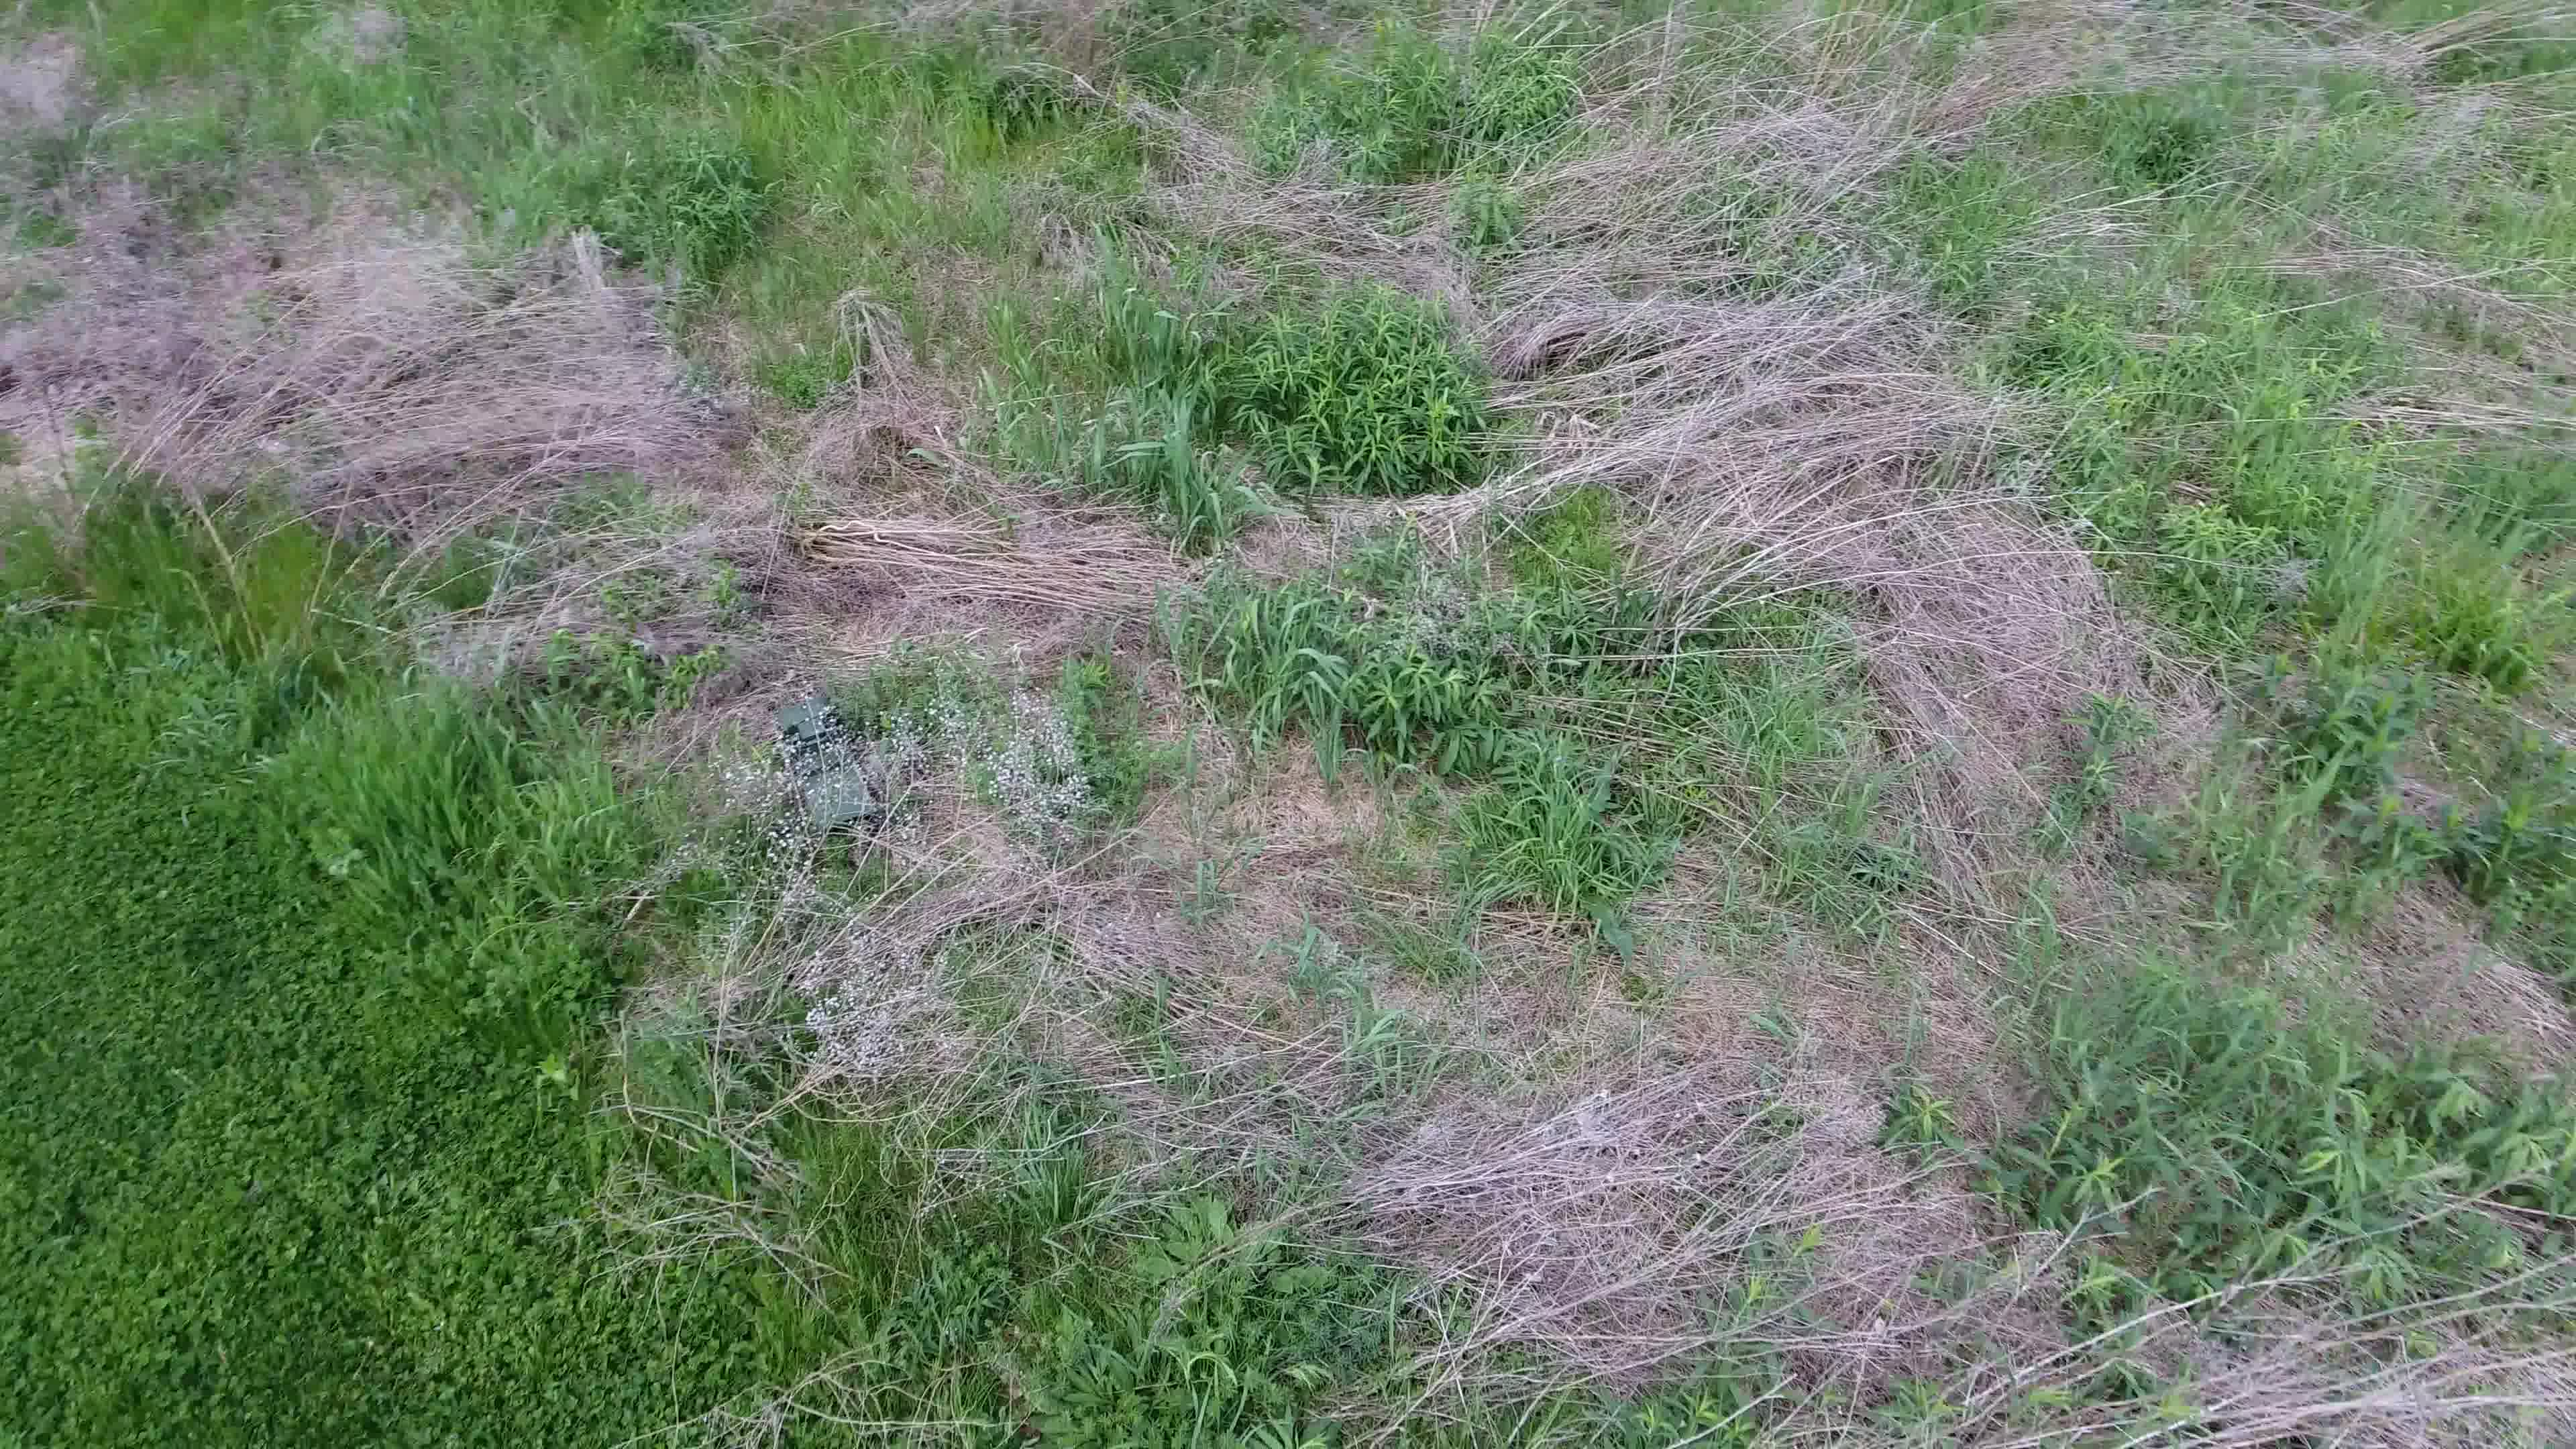transporter9: (768, 686, 885, 837)
